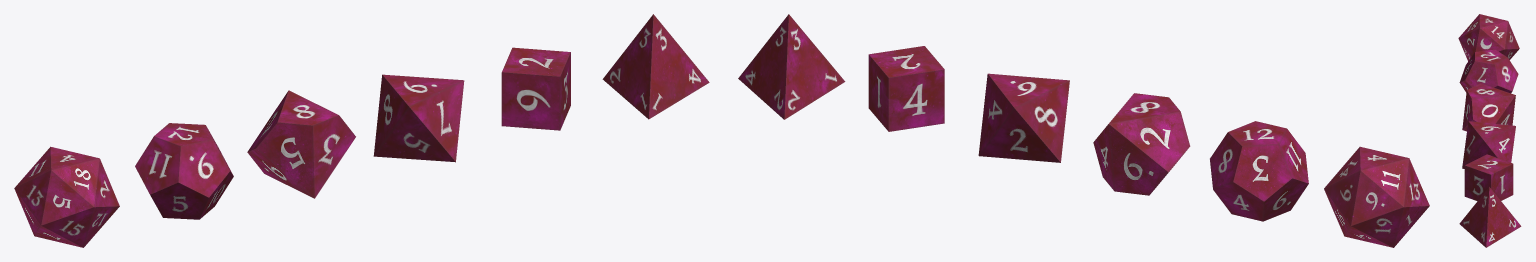
The model's file is dices_red.glb.
3 views of the same model, side by side, from view 1: azimuth 30°, elevation 25°; view 2: azimuth 150°, elevation 25°; view 3: azimuth 270°, elevation 25° (orthographic). The views are drawn at different scales.
Visible parts, largest first — view 1: d20, d8, d10, d12, d4, d6; view 2: d12, d20, d8, d10, d4, d6; view 3: d4, d6, d20, d10, d12, d8.
Boxes of the visible parts, box(x1,y1,x2,y2) form: d20: box(14, 146, 119, 247); d8: box(373, 74, 464, 162); d10: box(247, 90, 355, 198); d12: box(135, 123, 233, 219); d4: box(602, 14, 709, 119); d6: box(501, 47, 570, 130); d12: box(1210, 121, 1308, 221); d20: box(1324, 146, 1429, 247); d8: box(978, 73, 1069, 162); d10: box(1093, 93, 1190, 195); d4: box(738, 14, 845, 119); d6: box(868, 46, 944, 131); d4: box(1459, 187, 1521, 247); d6: box(1464, 154, 1513, 200); d20: box(1458, 14, 1519, 61); d10: box(1462, 83, 1515, 131); d12: box(1459, 49, 1518, 93); d8: box(1462, 121, 1515, 168).
Bounding box in the file's own units: 9.27 × 1.05 × 1.28.
1 material, 1 textured.
